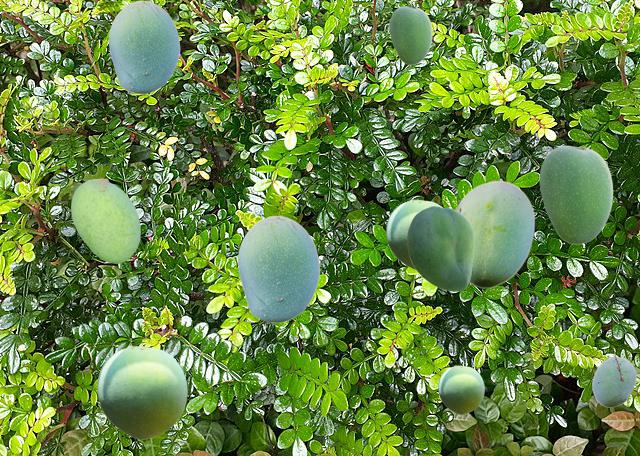green_mango: (237, 215, 319, 322), (455, 180, 534, 287), (97, 345, 186, 438), (539, 145, 612, 243), (108, 0, 179, 93), (71, 178, 139, 262), (407, 206, 473, 290), (386, 199, 442, 269), (389, 6, 431, 63), (592, 354, 635, 406), (438, 365, 483, 413)
